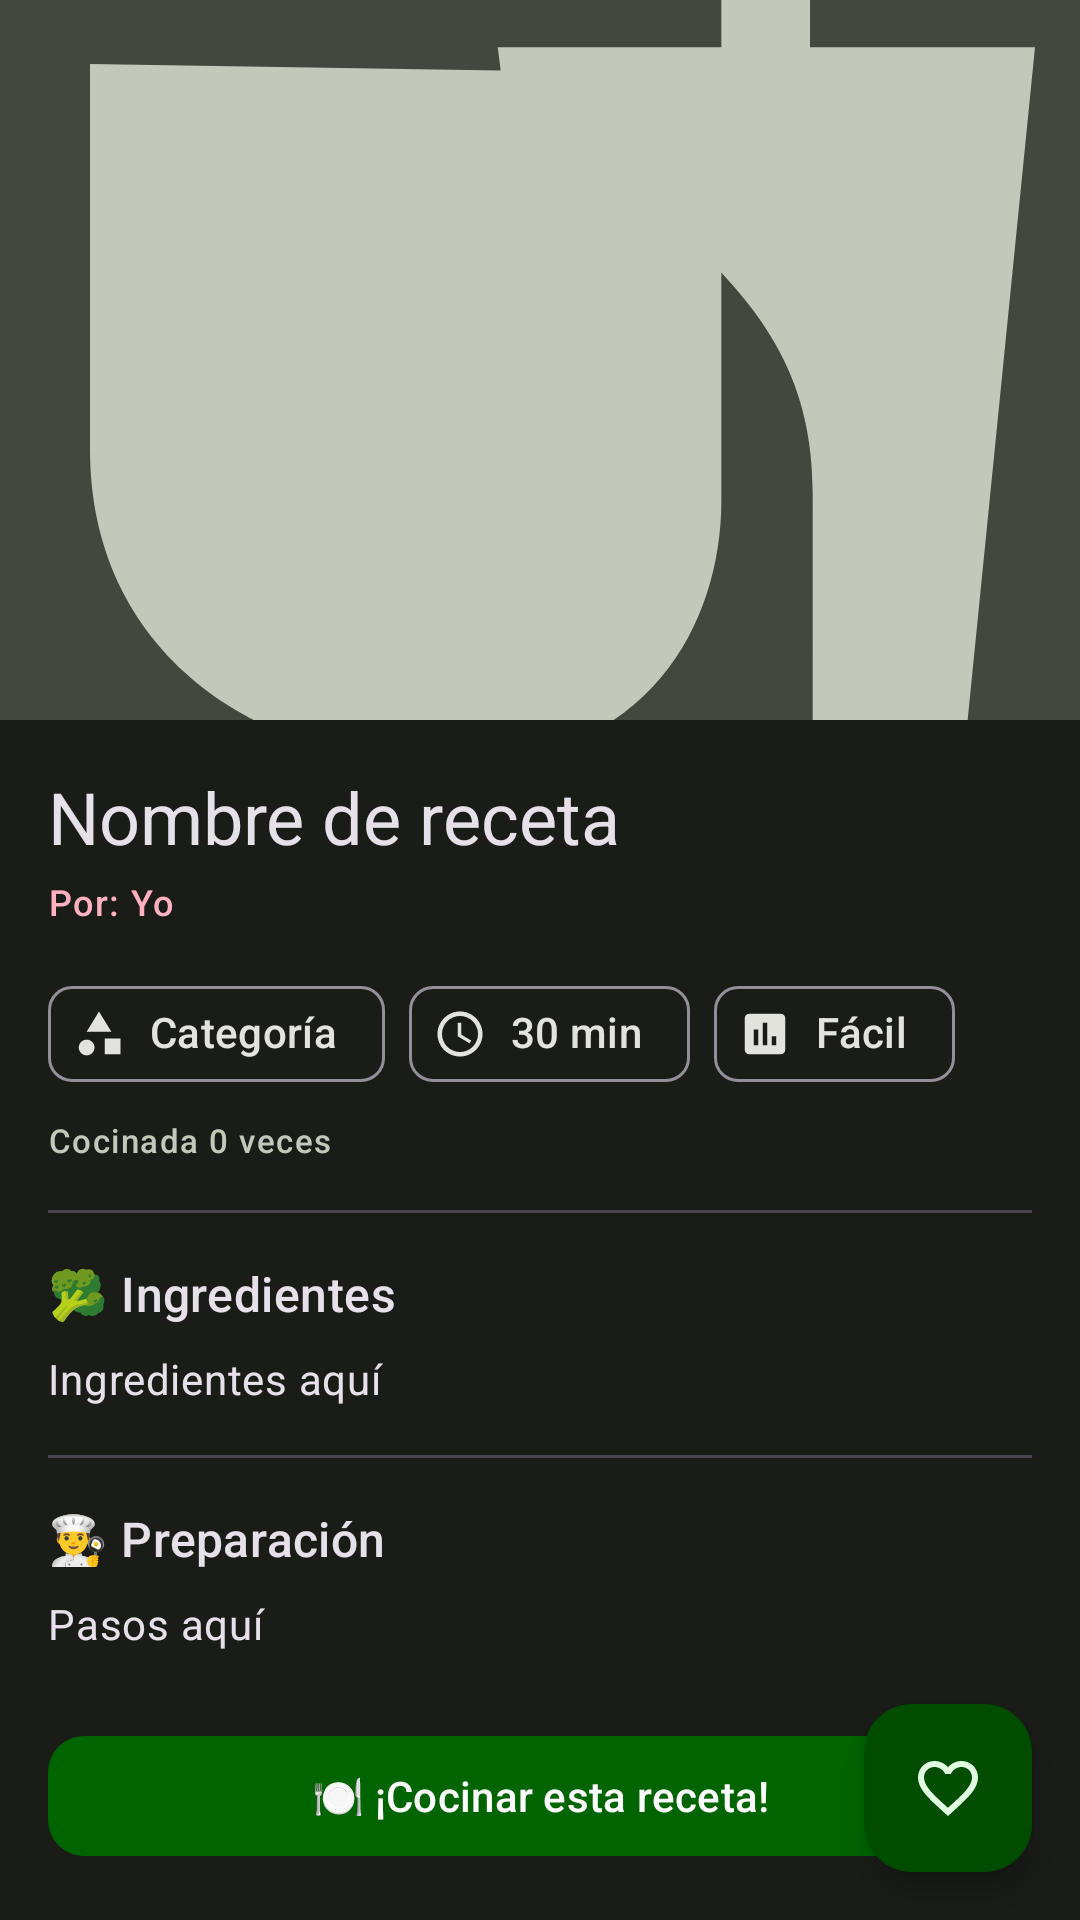

Named icons in this screenshot (1080px x 1920px) and their centers, point (x, y):
Favorito: point (948, 1788)
